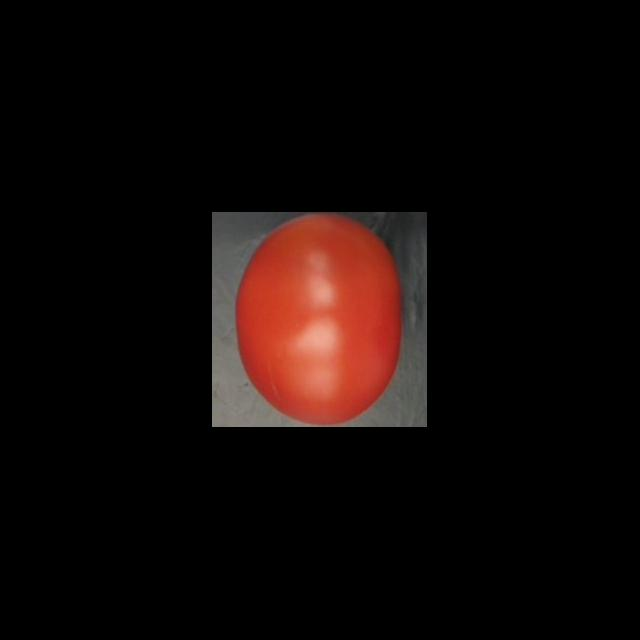tomato: (231, 212, 406, 428)
